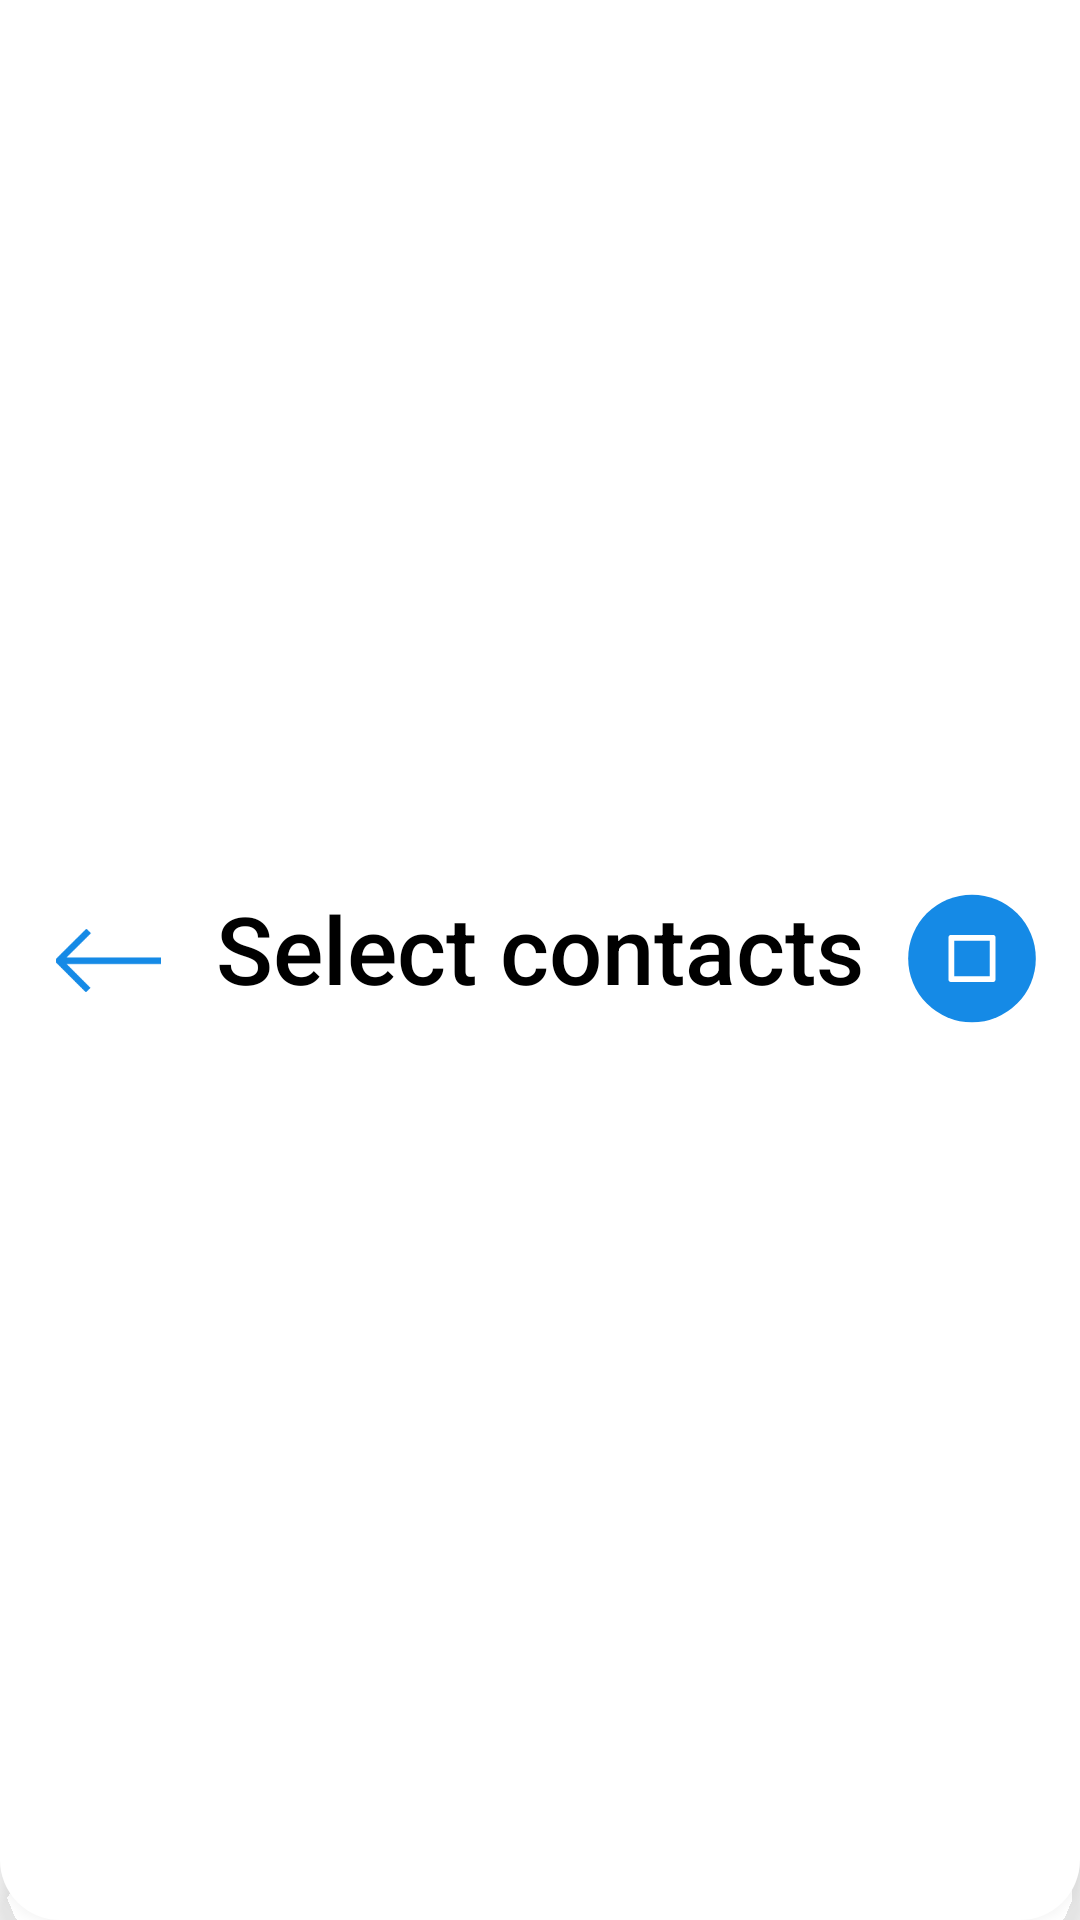

Where to tap for icons on this 1080*1920 app screen, as [x,y]:
select all: [972,958]
